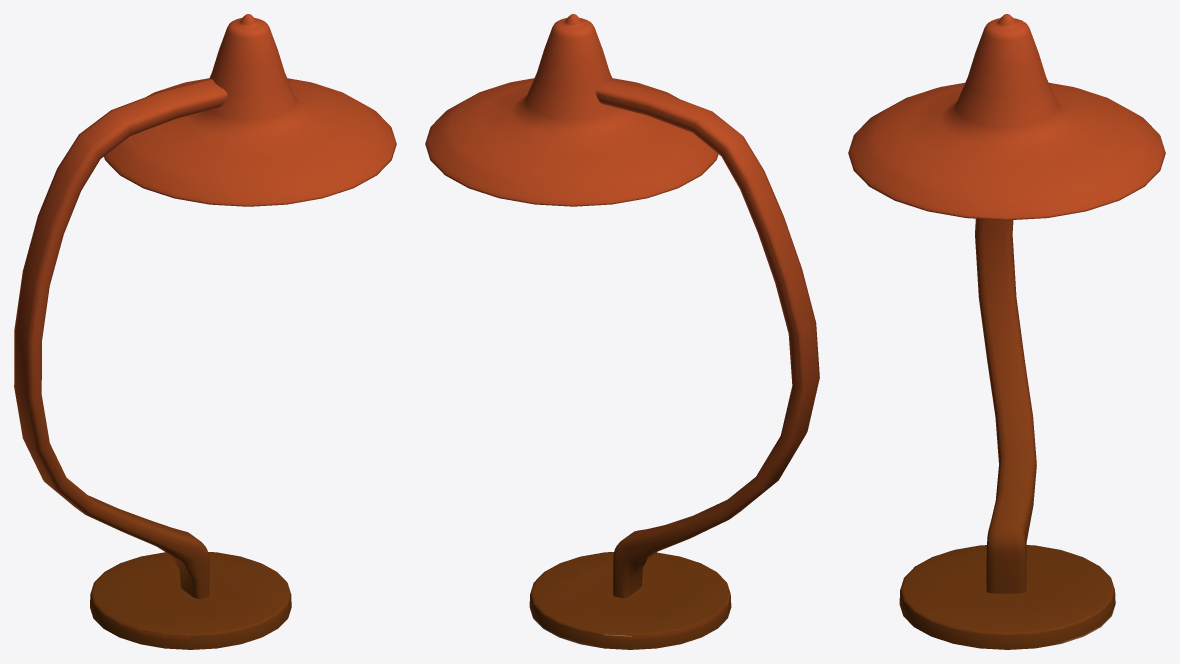
The model's file is SM_Lamp.fbx.
3 renders of one model, left to right at view 1: azimuth 30°, elevation 25°; view 2: azimuth 150°, elevation 25°; view 3: azimuth 270°, elevation 25°, orthographic. The views are drawn at different scales.
Parts seen in each view (by area): view 1: lampe; view 2: lampe; view 3: lampe.
Boxes of the visible parts, bbox=[...] form: lampe: bbox=[14, 14, 396, 649]; lampe: bbox=[425, 14, 819, 649]; lampe: bbox=[848, 14, 1165, 649].
Bounding box in the file's own units: 45.02 × 68.77 × 31.95.
